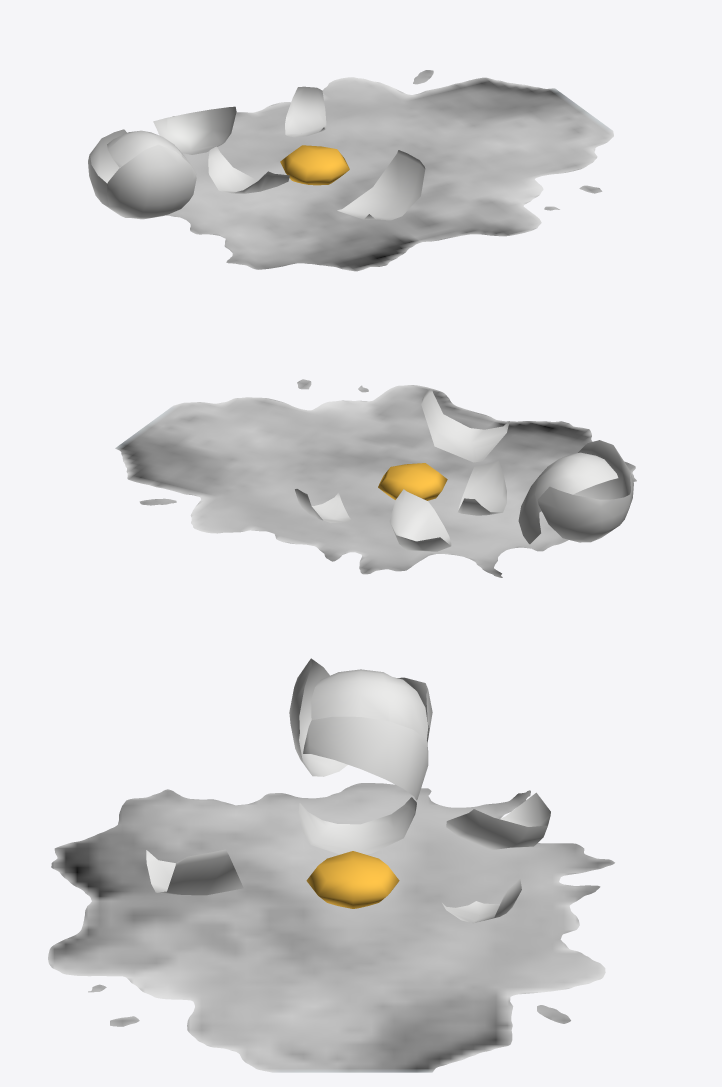
Rendered from BrokenEgg_V1.fbx.
3 renders of one model, top to bottom at view 1: azimuth 30°, elevation 25°; view 2: azimuth 150°, elevation 25°; view 3: azimuth 270°, elevation 25°, orthographic. The views are drawn at different scales.
Visible parts, largest first — view 1: BrokenEgg_V1; view 2: BrokenEgg_V1; view 3: BrokenEgg_V1.
Part boxes in pixels (x1=…): BrokenEgg_V1: x1=88, y1=70, x2=613, y2=271; BrokenEgg_V1: x1=115, y1=379, x2=636, y2=577; BrokenEgg_V1: x1=48, y1=658, x2=614, y2=1072.
Bounding box in the file's own units: 0.374 × 0.063 × 0.3404.
